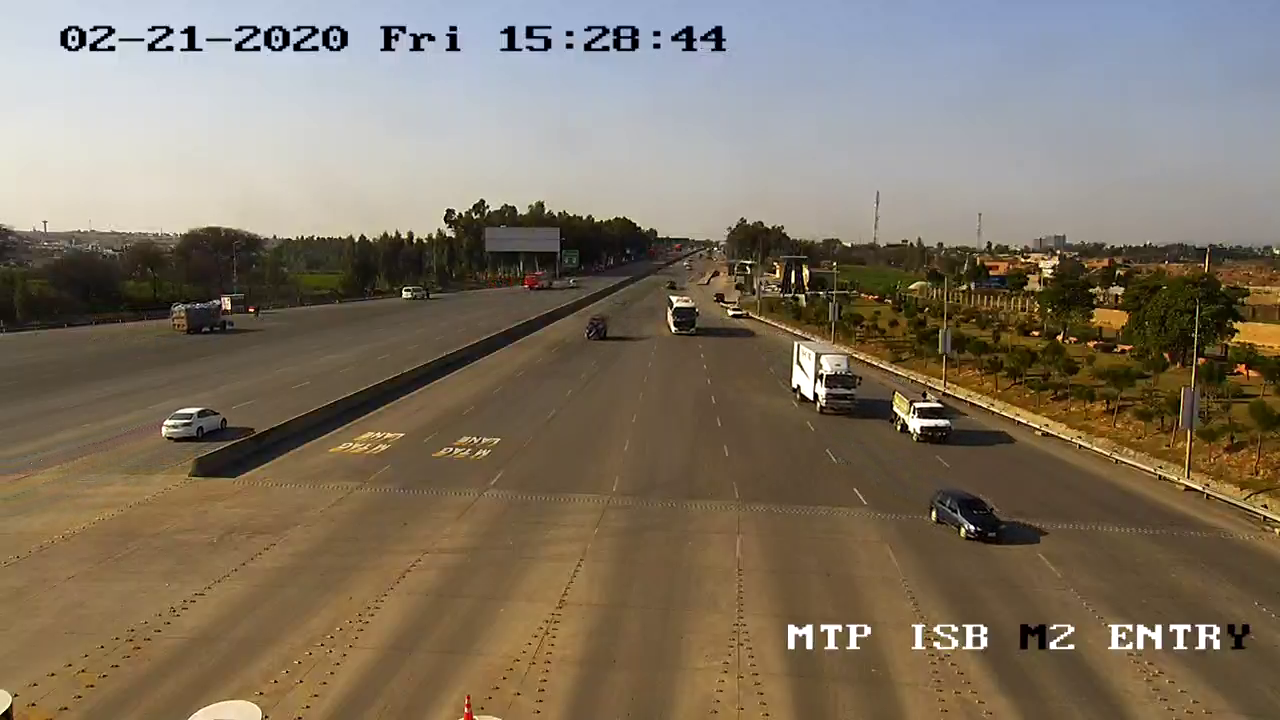f1: (908, 485, 1013, 546)
f2: (874, 377, 960, 449)
f4: (657, 284, 705, 343)
f5: (779, 339, 866, 426)
